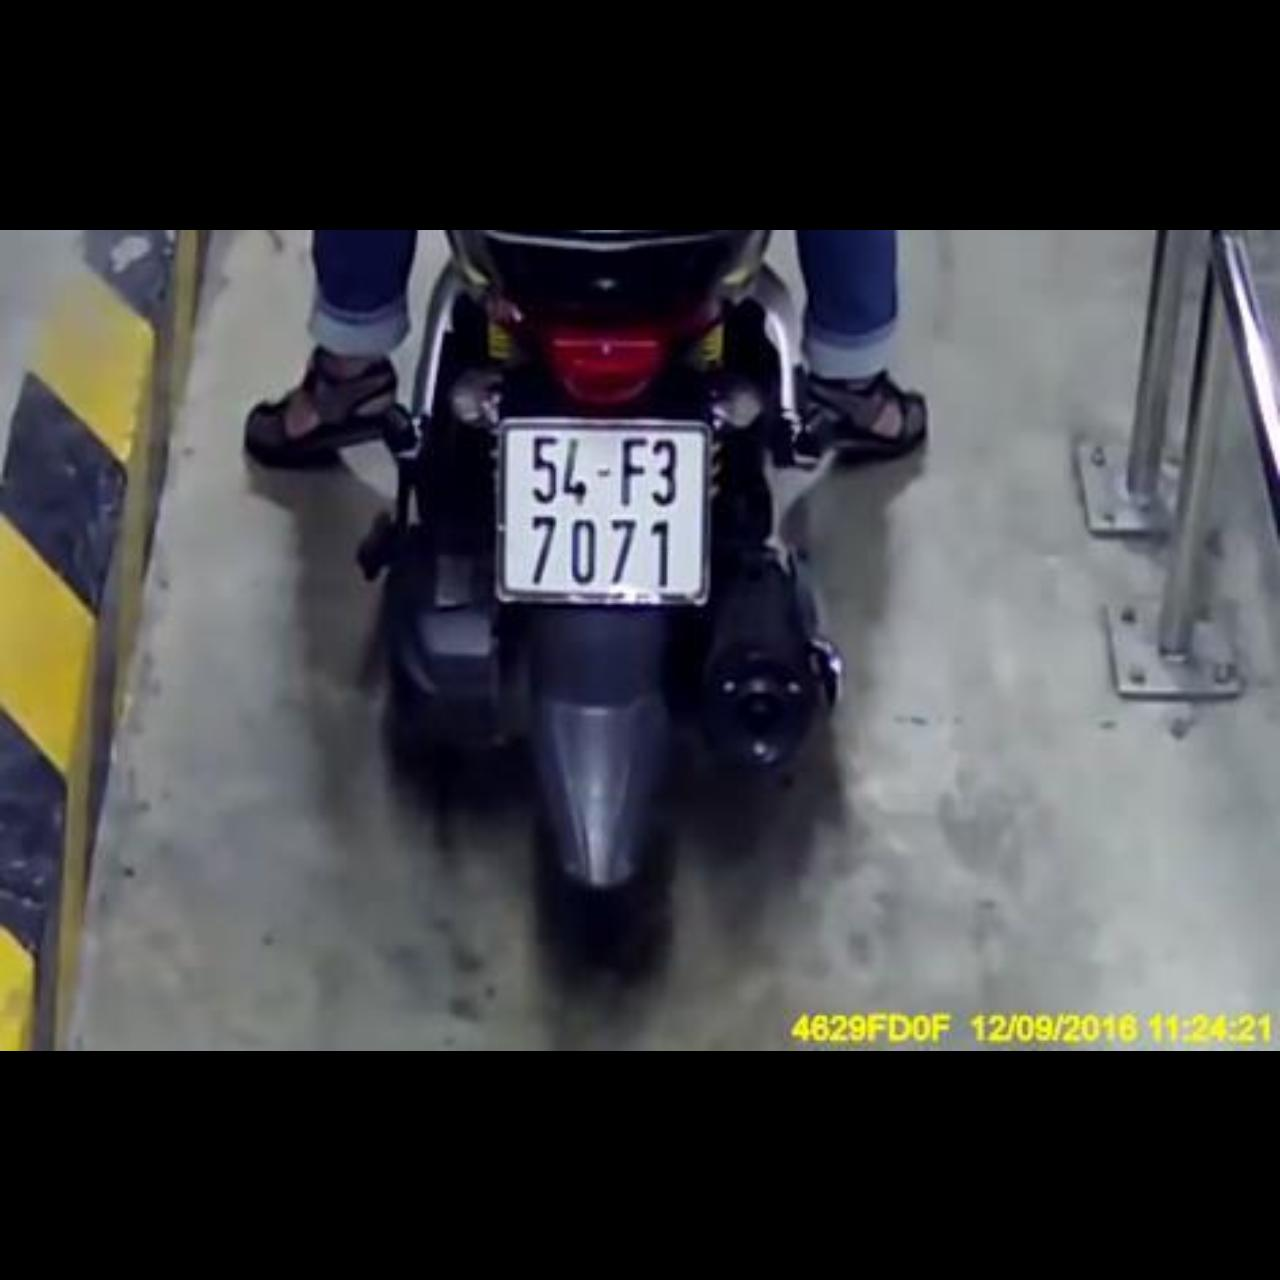bienso: (493, 412, 712, 608)
